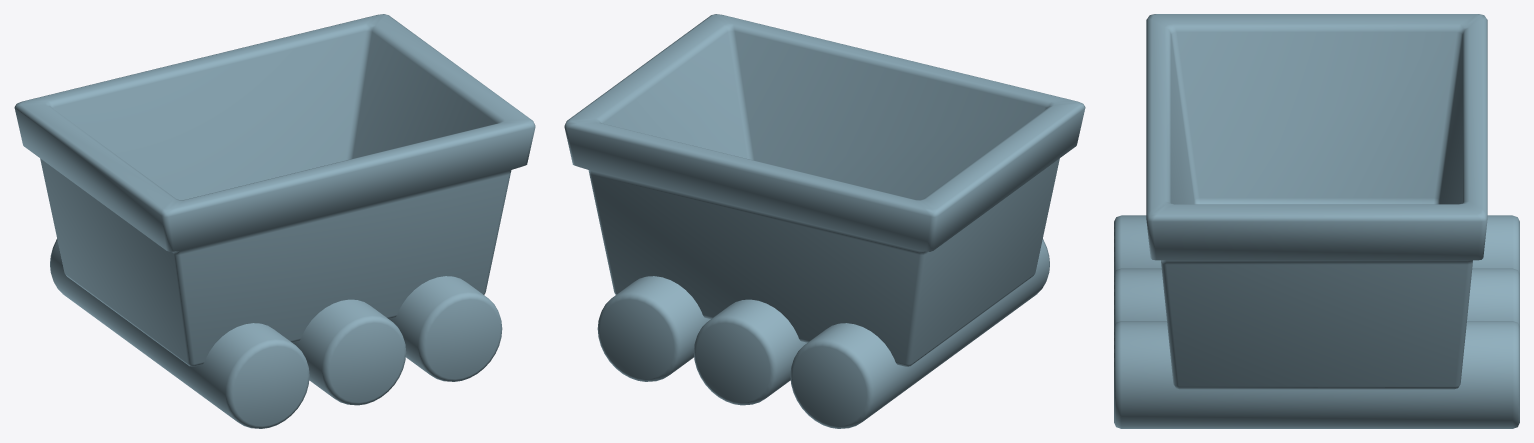
The model's file is Cart.glb.
The picture shows the model from 3 angles, left to right: view 1: azimuth 30°, elevation 25°; view 2: azimuth 150°, elevation 25°; view 3: azimuth 270°, elevation 25°; orthographic projection. The views are drawn at different scales.
Visible parts, largest first — view 1: Cart; view 2: Cart; view 3: Cart.
Boxes of the visible parts, box(x1,y1,x2,y2) form: Cart: box(14, 14, 535, 428); Cart: box(564, 14, 1085, 428); Cart: box(1114, 14, 1519, 428).
Size of the model in its own units: 1.66 by 0.9708 by 1.39.
